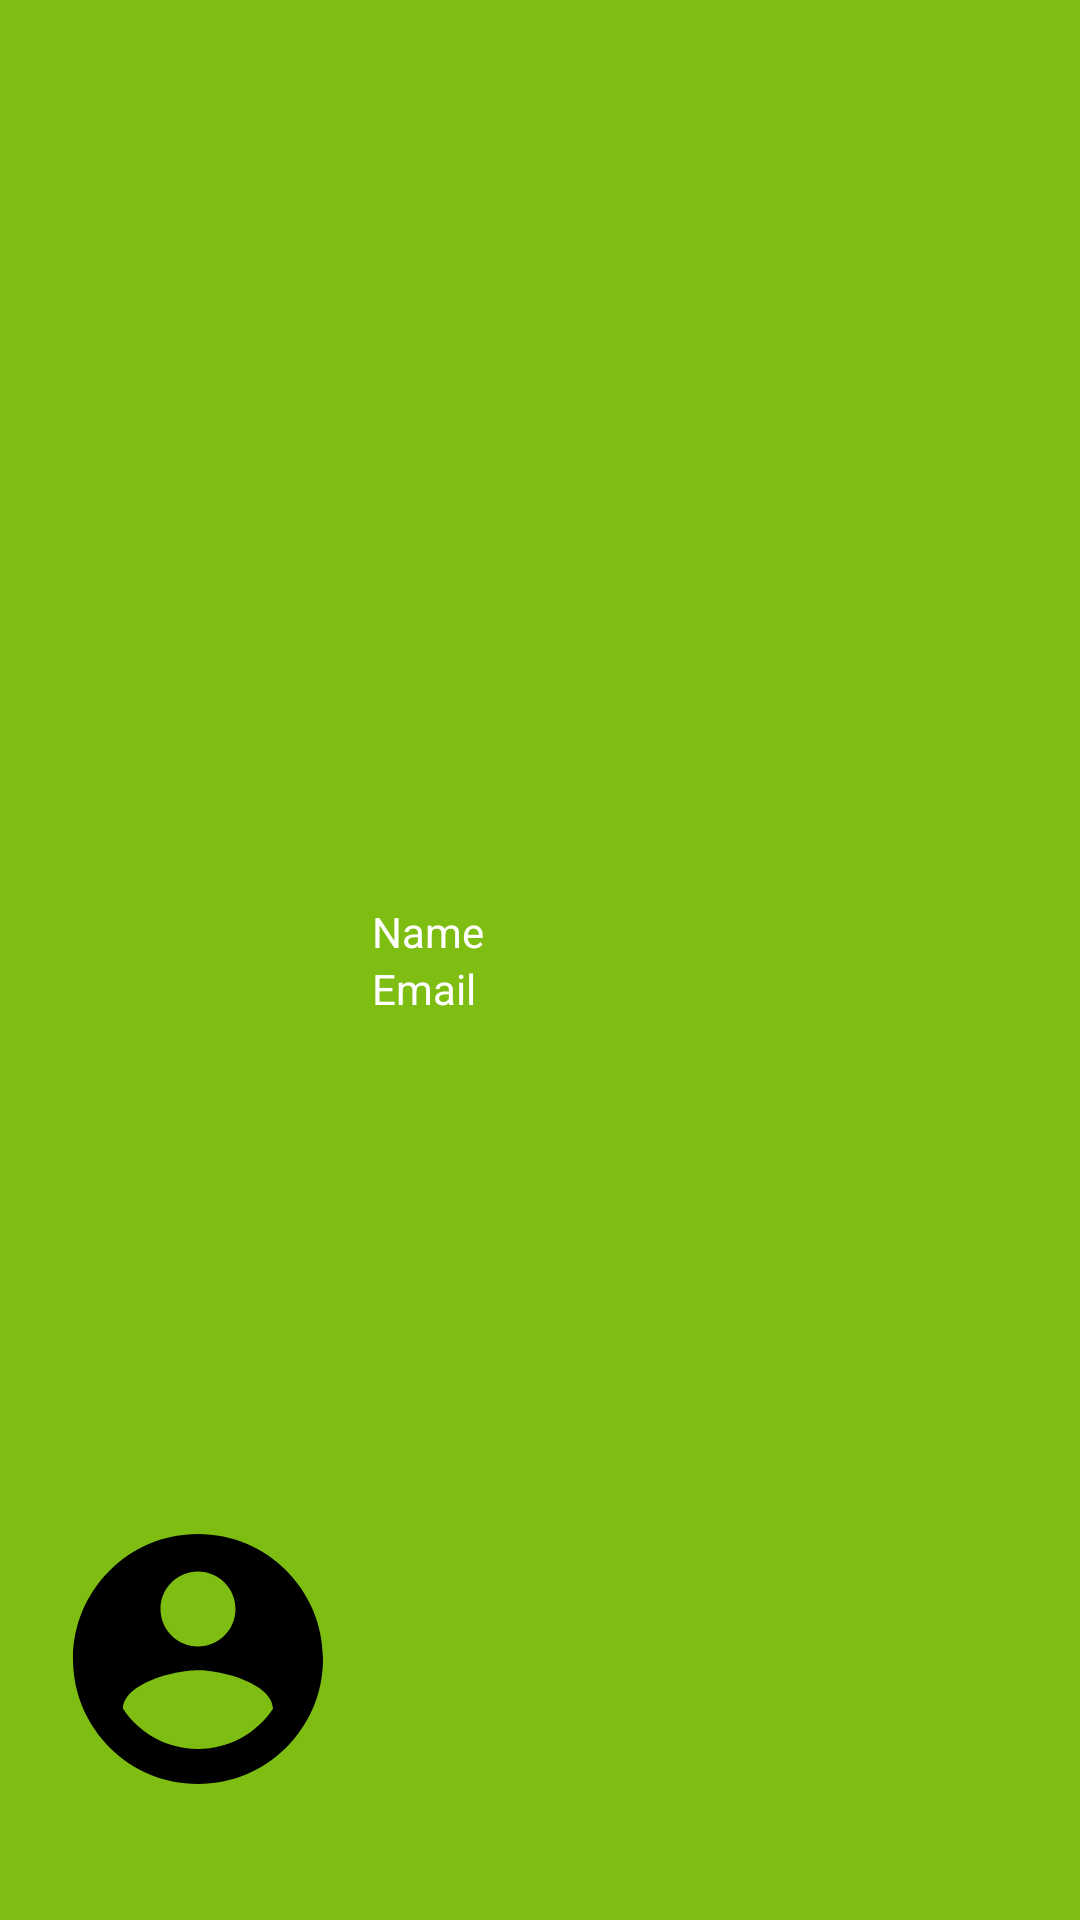

Screen size 1080 × 1920. Icon name, then its center in pixels as point (x, y):
account circle: point (198, 1659)
